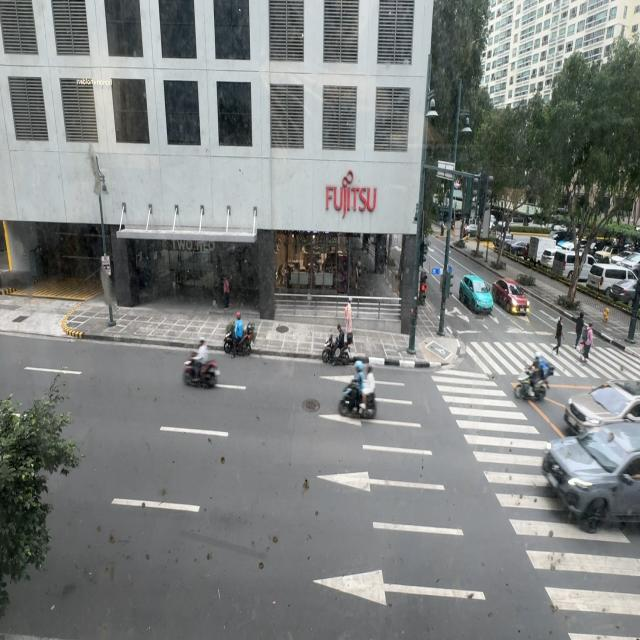crossing: (580, 322, 594, 362), (553, 316, 565, 354), (574, 311, 584, 350)
pedestrain: (344, 297, 352, 344), (223, 276, 230, 310)
